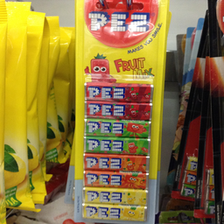candy: (76, 1, 159, 224), (1, 11, 61, 208)
